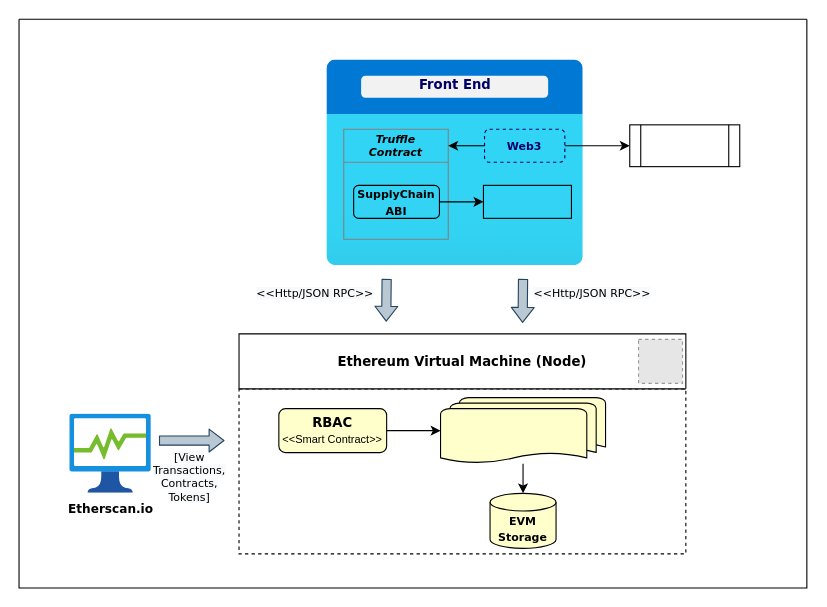
Image size: 827x607. Some labels were removed from this diagram. Grey dashed boxes stand in for pictures. The shapes that lost their labels are listed below. From the top down, each one's centre as x and y in pixels, then its label:
At (x=684, y=145): "Wallet Provider (Metamask)".
At (x=526, y=201): "WebSocket Provider".
At (x=522, y=430): "Supply Chain <<Smart Contract>>".
